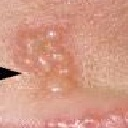Cold Sore: (18, 21, 87, 97)
